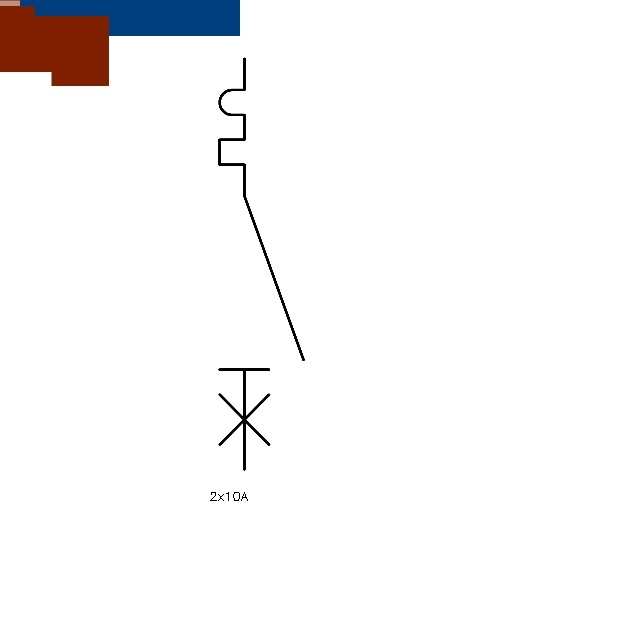interruptor_termomagnetico: (209, 48, 314, 479)
